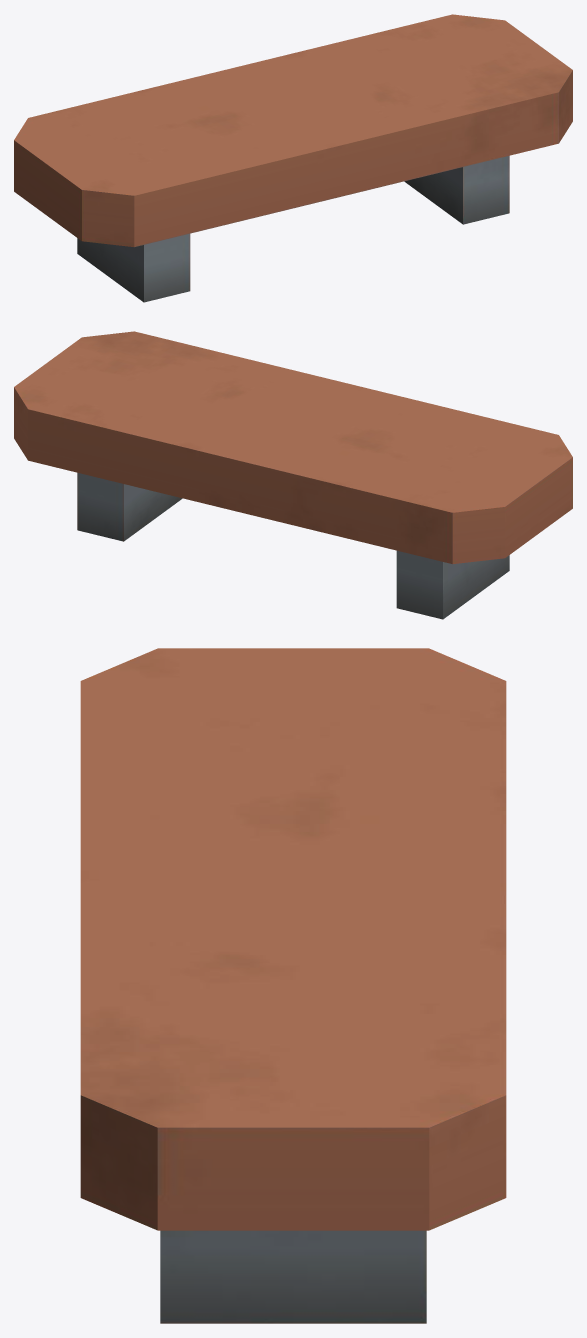
The model's file is bench.glb.
The picture shows the model from 3 angles, top to bottom: view 1: azimuth 30°, elevation 25°; view 2: azimuth 150°, elevation 25°; view 3: azimuth 270°, elevation 25°; orthographic projection. The views are drawn at different scales.
Parts seen in each view (by area): view 1: bench; view 2: bench; view 3: bench.
Part boxes in pixels (bbox=[...]): bench: bbox=[14, 14, 572, 302]; bench: bbox=[14, 331, 572, 619]; bench: bbox=[80, 648, 506, 1323].
Bounding box in the file's own units: 0.4 × 0.1 × 0.15.
1 material, 1 textured.
